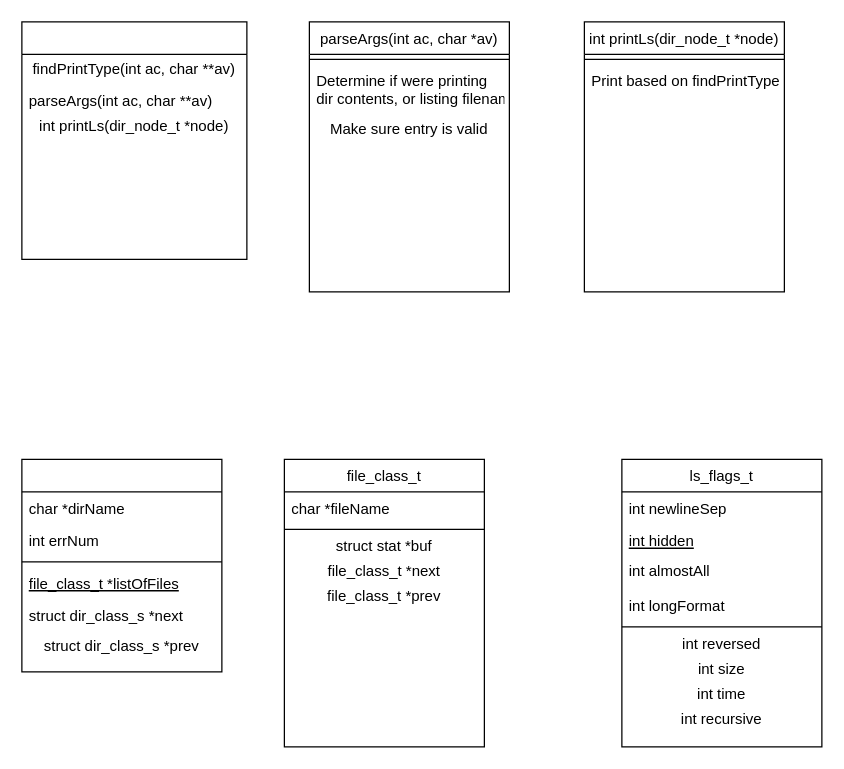
The diagram is 844 pixels wide and 769 high, and some of its shapes have lost their labels. Here are the shapes that lost their labels. From the top down, the box of each, then its label:
(21, 21, 247, 259): main.c(int ac, char *av)
(21, 458, 222, 672): dir_class_t
